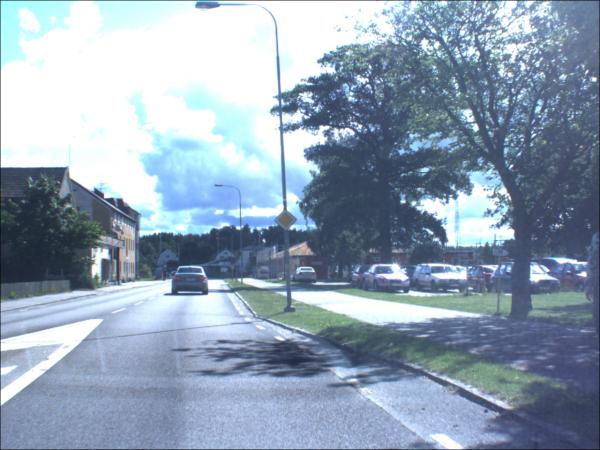NO_STOPPING_NO_STANDING: (232, 260, 238, 267)
PRIORITY_ROAD: (276, 211, 300, 232), (232, 267, 238, 271)
